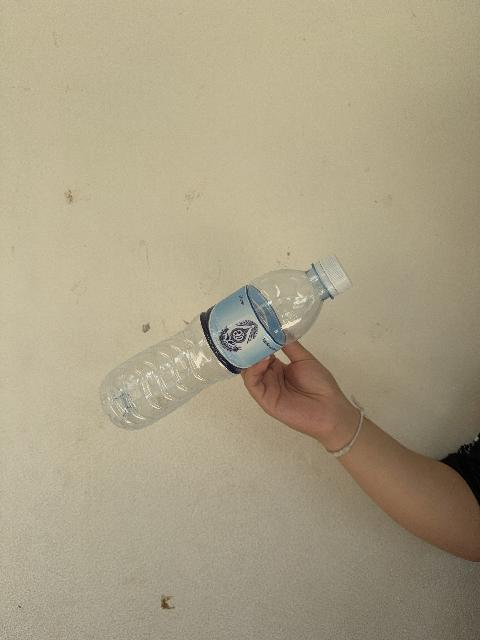bottle: (100, 255, 351, 429)
